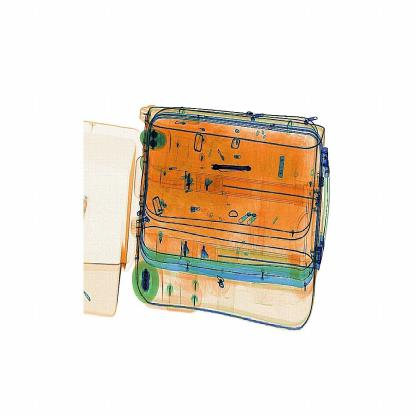knife: (212, 160, 256, 177)
